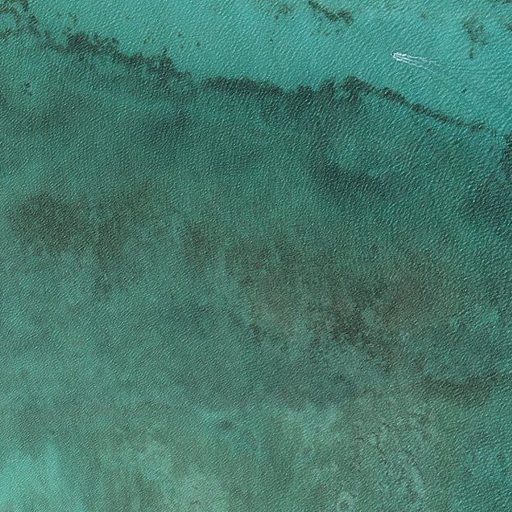ship: (390, 53, 395, 56)
